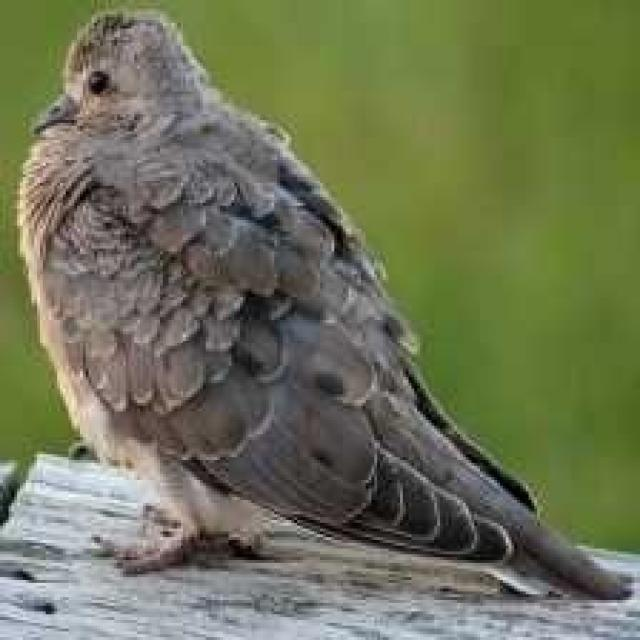bird: (10, 2, 628, 608)
